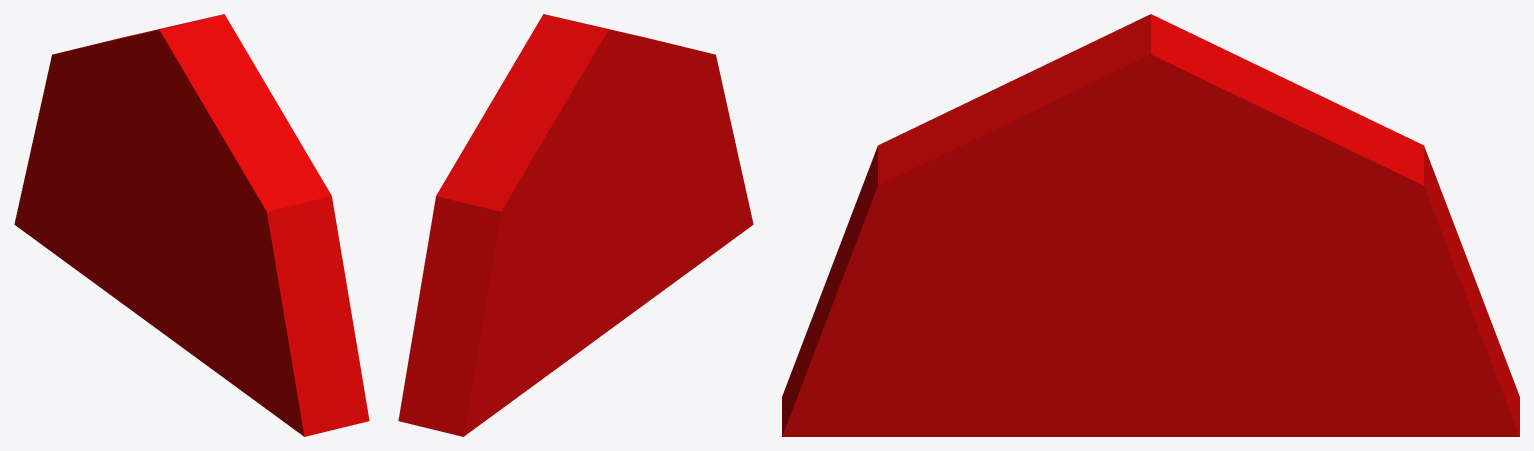
The model's file is VaultCap1mCollider.fbx.
3 renders of one model, left to right at view 1: azimuth 30°, elevation 25°; view 2: azimuth 150°, elevation 25°; view 3: azimuth 270°, elevation 25°, orthographic. The views are drawn at different scales.
Parts seen in each view (by area): view 1: VaultCap1mCollision; view 2: VaultCap1mCollision; view 3: VaultCap1mCollision.
Boxes of the visible parts, bbox=[...] form: VaultCap1mCollision: bbox=[14, 14, 369, 436]; VaultCap1mCollision: bbox=[398, 14, 753, 436]; VaultCap1mCollision: bbox=[782, 14, 1519, 436].
Bounding box in the file's own units: 40 × 177 × 309.
